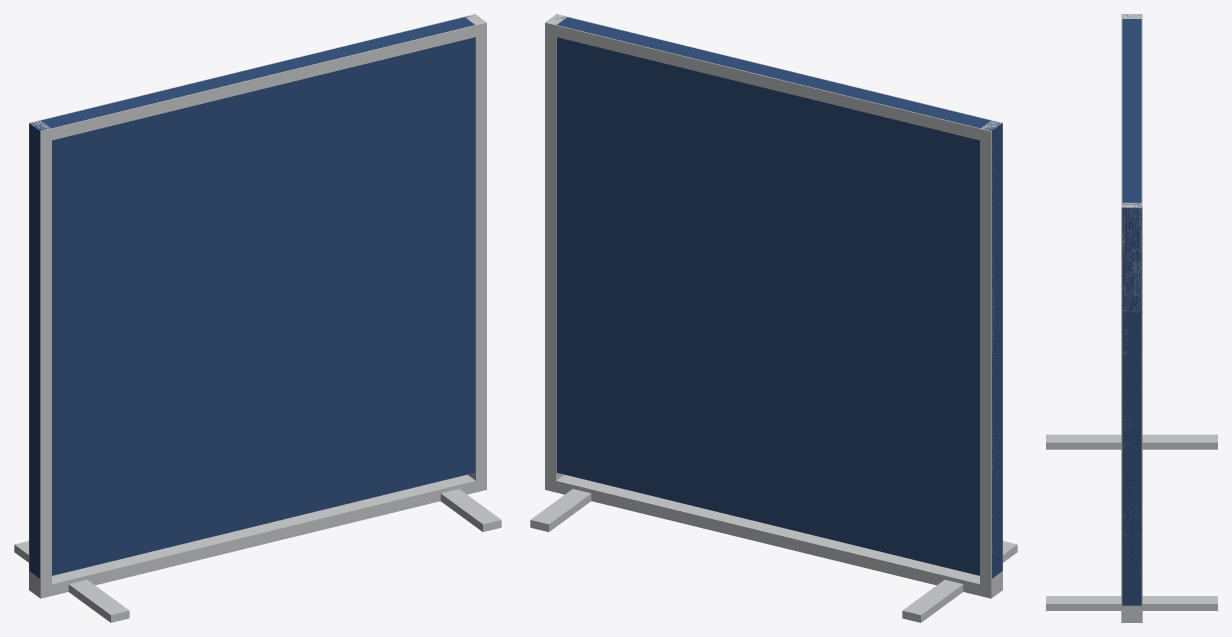
The model's file is office.screen.partition_low.glb.
The picture shows the model from 3 angles, left to right: view 1: azimuth 30°, elevation 25°; view 2: azimuth 150°, elevation 25°; view 3: azimuth 270°, elevation 25°; orthographic projection. The views are drawn at different scales.
Visible parts, largest first — view 1: main__fabric_blue, main__aluminium; view 2: main__fabric_blue, main__aluminium; view 3: main__fabric_blue, main__aluminium.
Part boxes in pixels (x1,y1,x2,y2): main__fabric_blue: (29, 16, 475, 578); main__aluminium: (14, 14, 501, 622); main__fabric_blue: (556, 16, 1002, 578); main__aluminium: (530, 14, 1017, 622); main__fabric_blue: (1122, 14, 1141, 605); main__aluminium: (1046, 14, 1217, 622).
Bounding box in the file's own units: 1.2 × 1.2 × 0.45.
